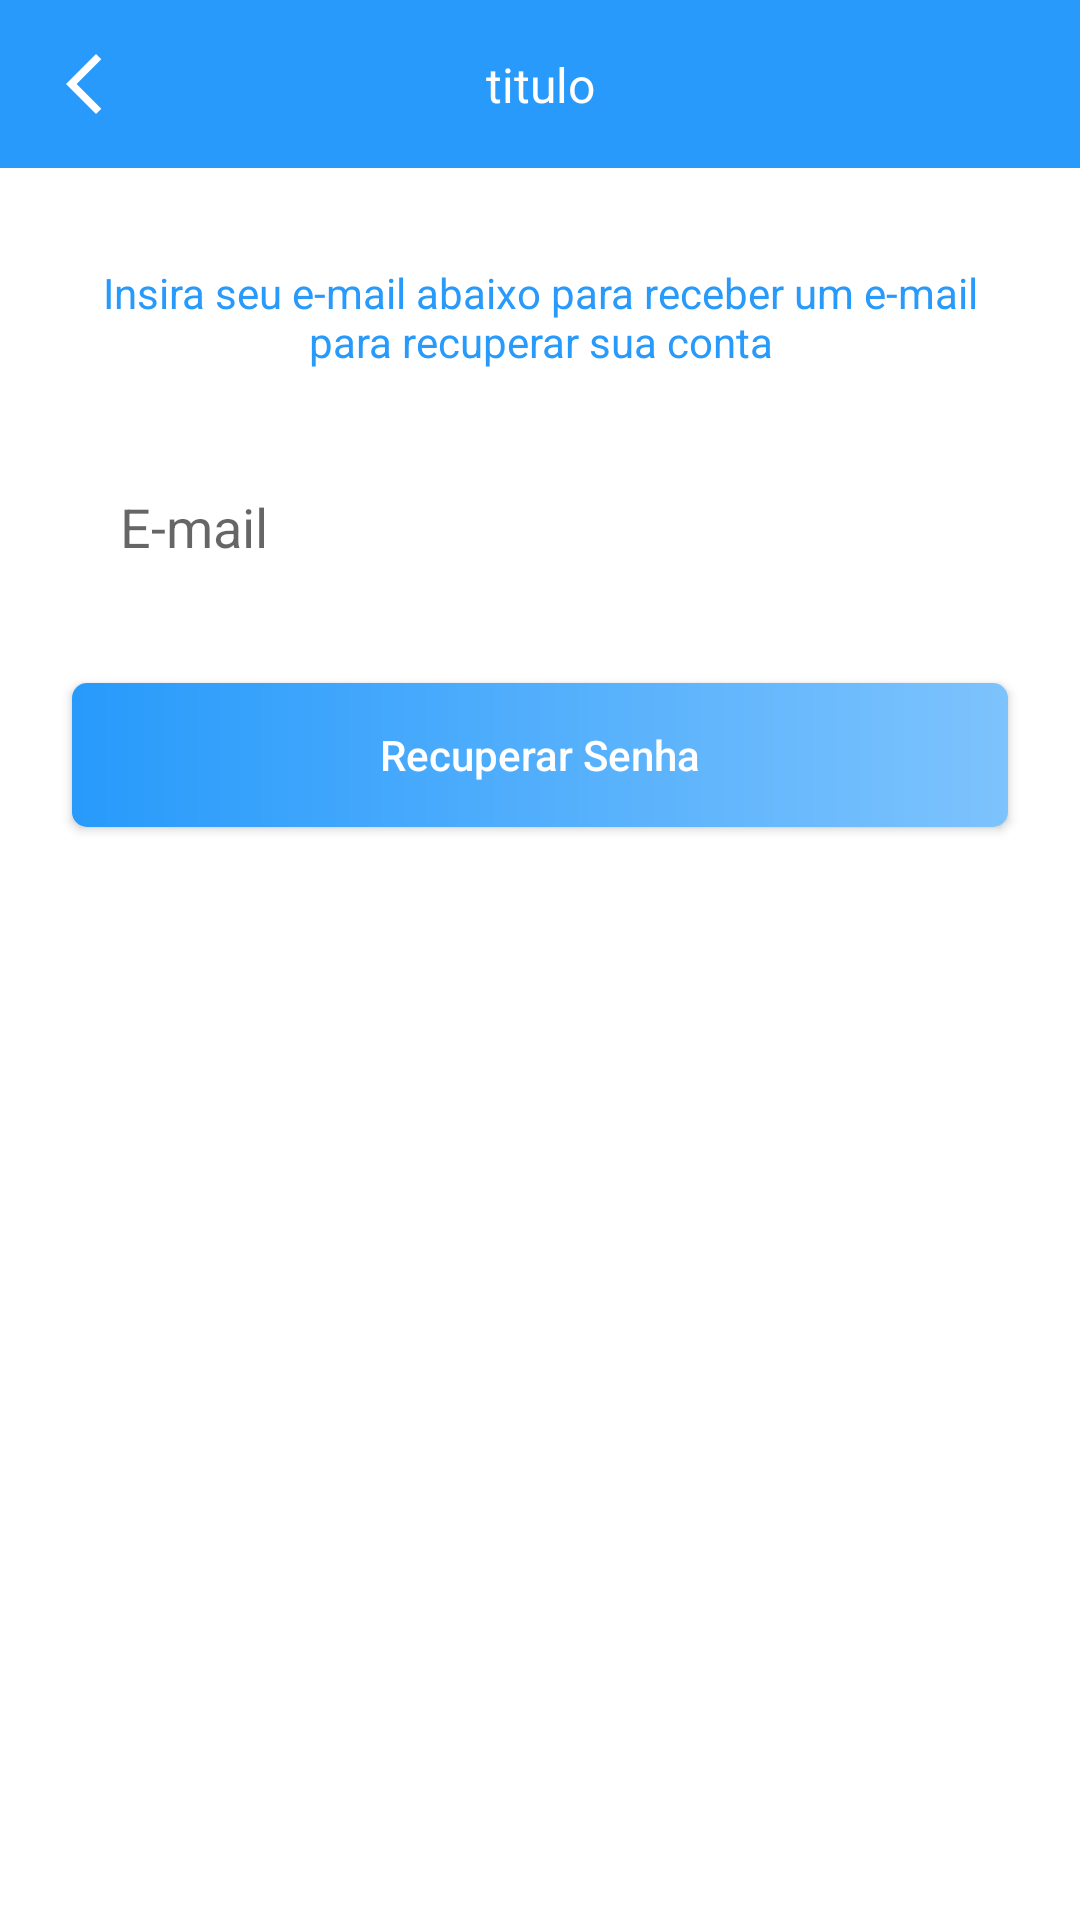

Where icons sit on this 1080*1920 app screen, as bbox=(x1, y1, x2, y2):
Voltar: bbox=(66, 54, 101, 114)
